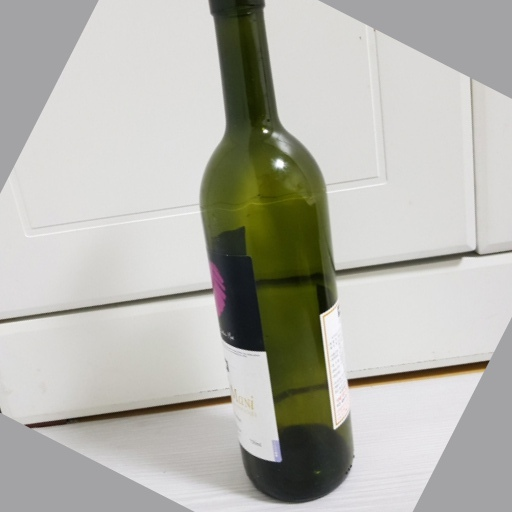Glass_2: (194, 1, 355, 504)
